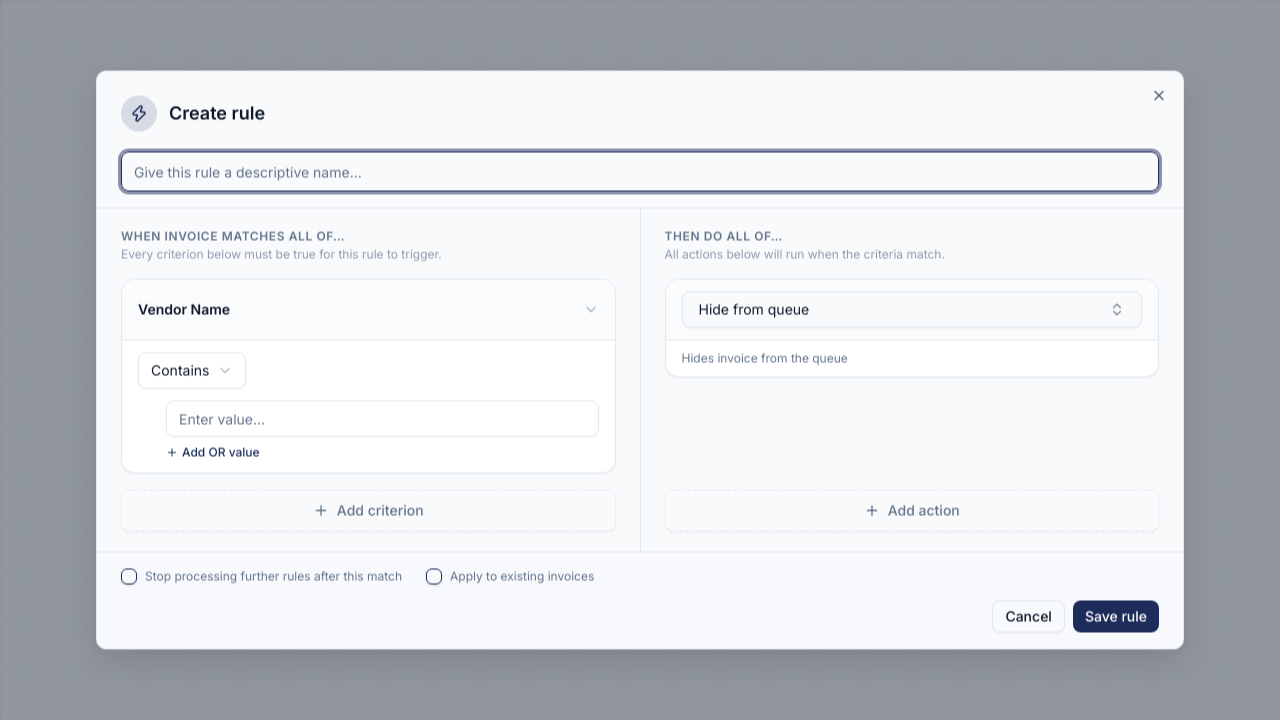
Test: RuleEditor › makes one new atomic request when the user retries after an atomic failure
In the field with placeholder "Give this rule a descriptive name…": (640, 172) x1=121 y1=152 x2=1159 y2=192, type "ACME rule"
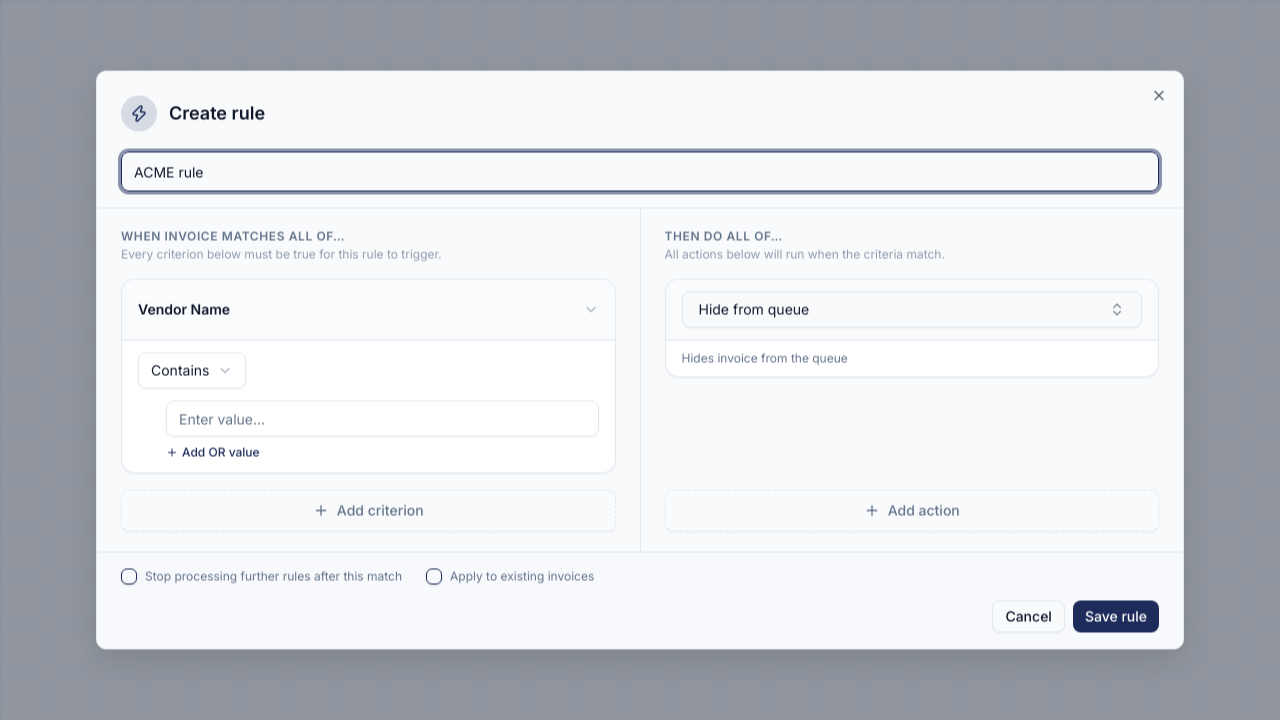
In the field with placeholder "Enter value…": (382, 418) x1=166 y1=400 x2=598 y2=436, type "ACME"
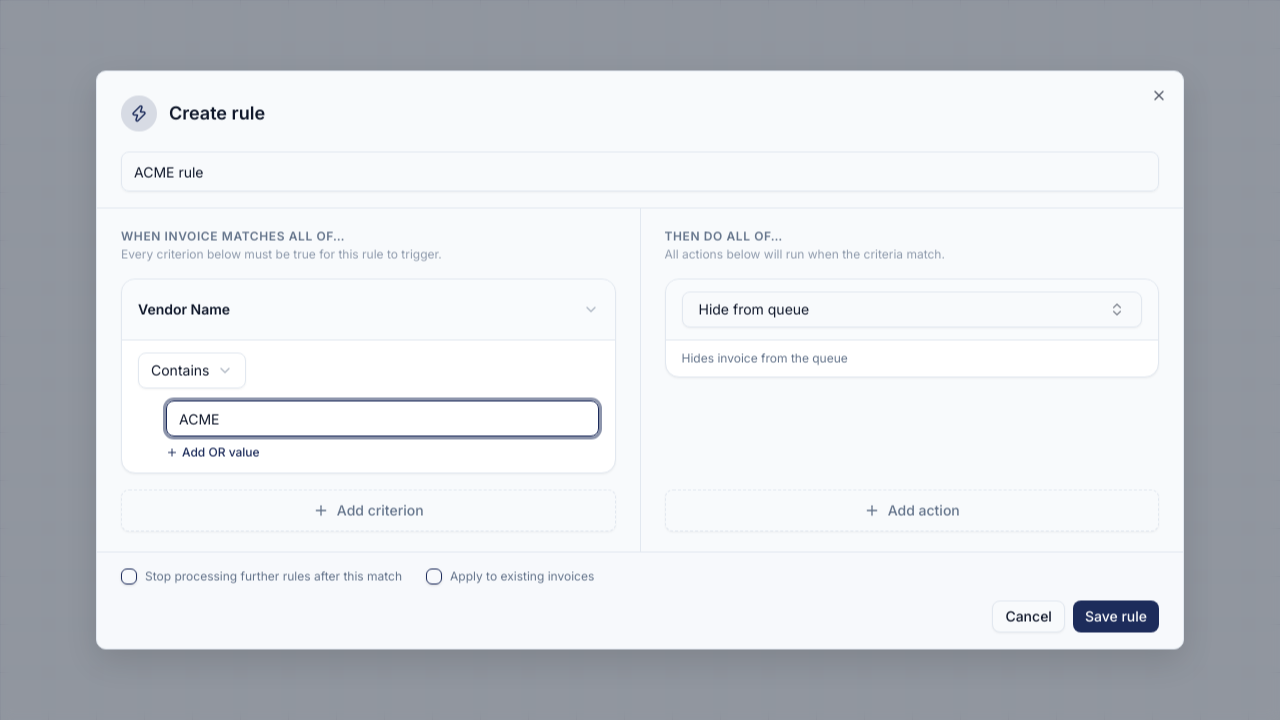
Click the checkbox named "Apply to existing invoices" next to "Apply to existing invoices": click(434, 576) x1=426 y1=568 x2=442 y2=584
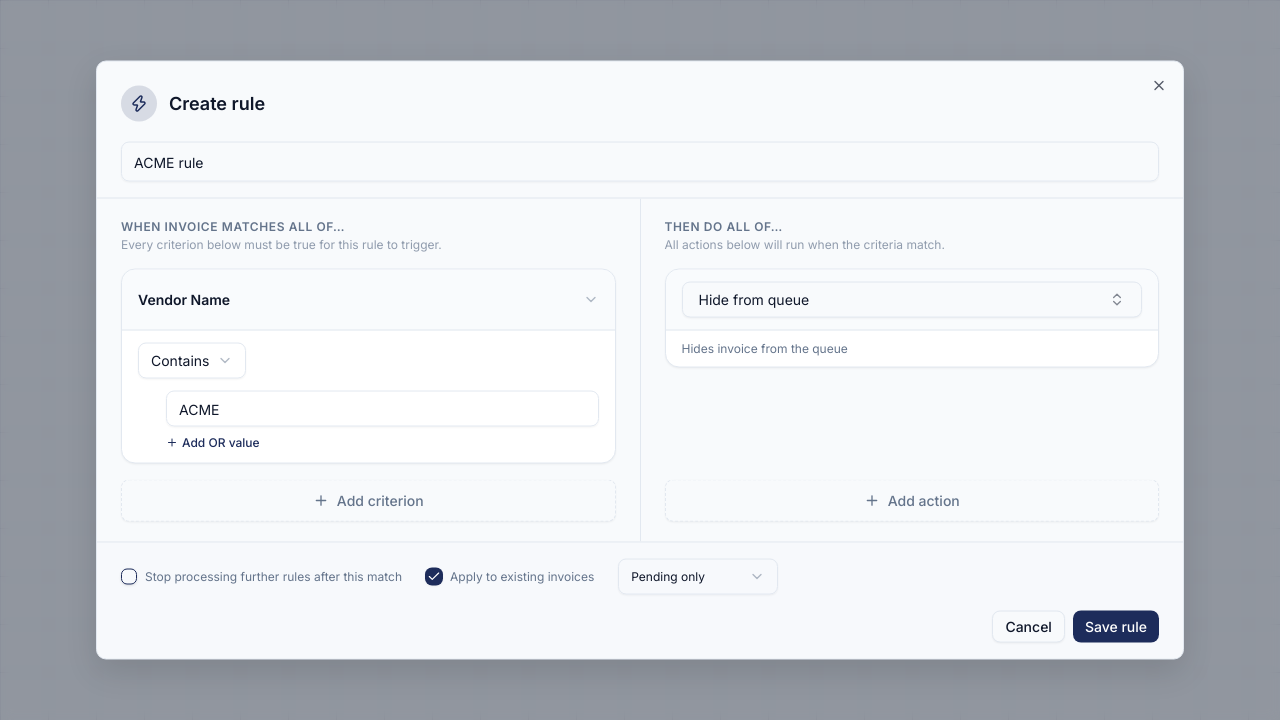
Click the button "Save rule": click(1116, 626) x1=1073 y1=610 x2=1159 y2=642
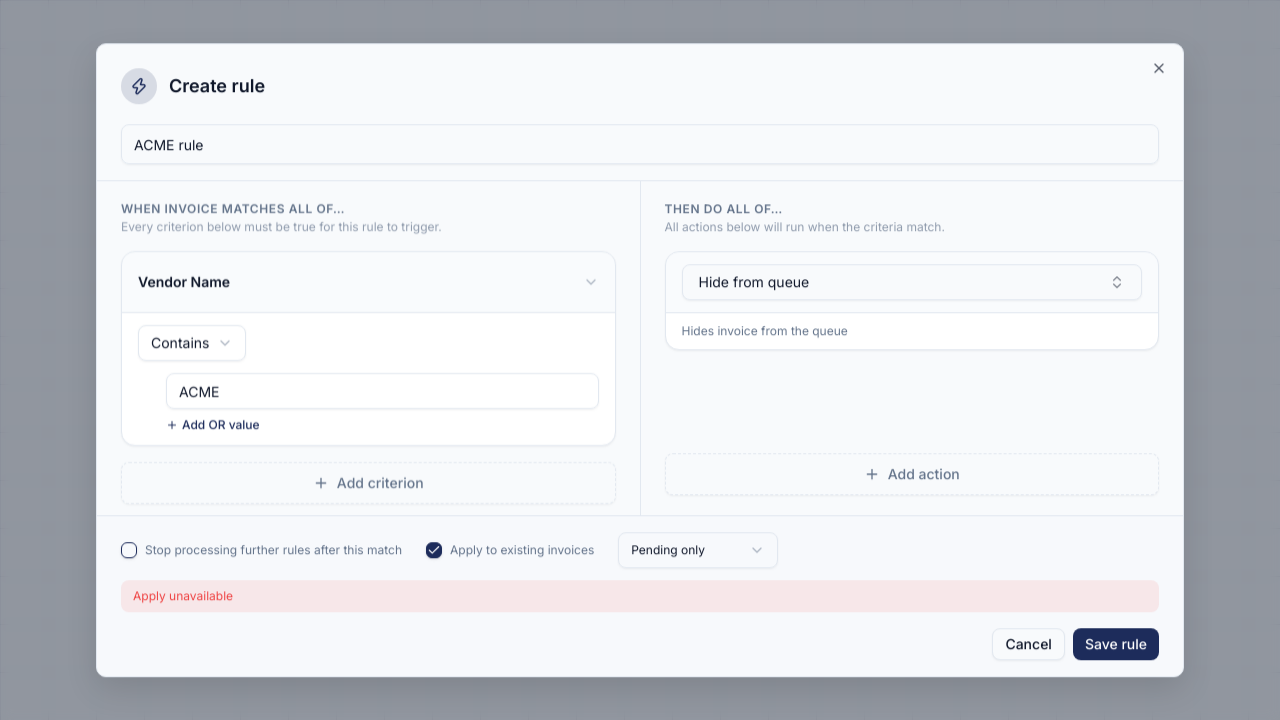
Expected: the text "Apply unavailable" is shown, x1=121 y1=580 x2=1159 y2=612
Click the button "Save rule": click(1116, 644) x1=1073 y1=628 x2=1159 y2=660
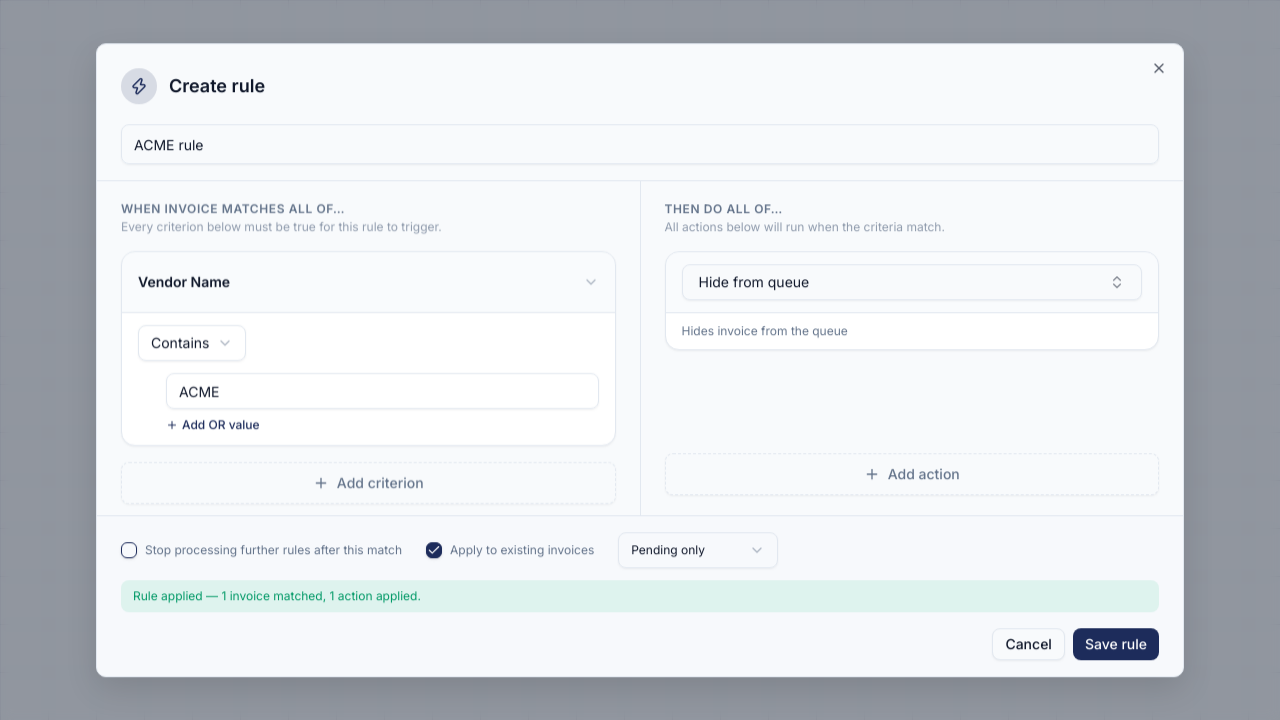
Expected: the text "Rule applied — 1 invoice matched, 1 action applied." is shown, x1=121 y1=580 x2=1159 y2=612
